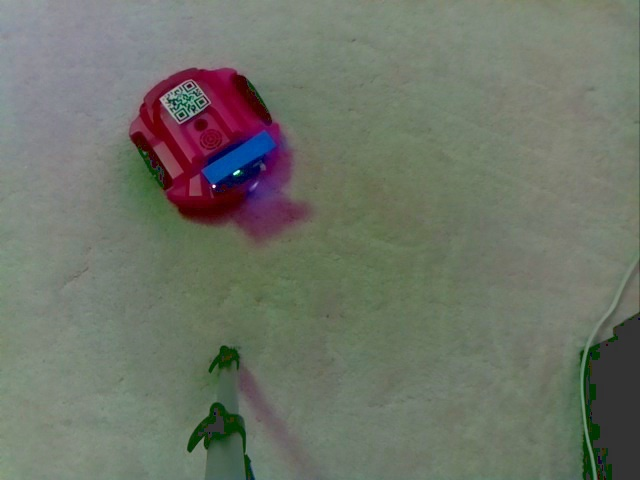board: (200, 130, 275, 193)
chassis: (126, 60, 282, 213)
